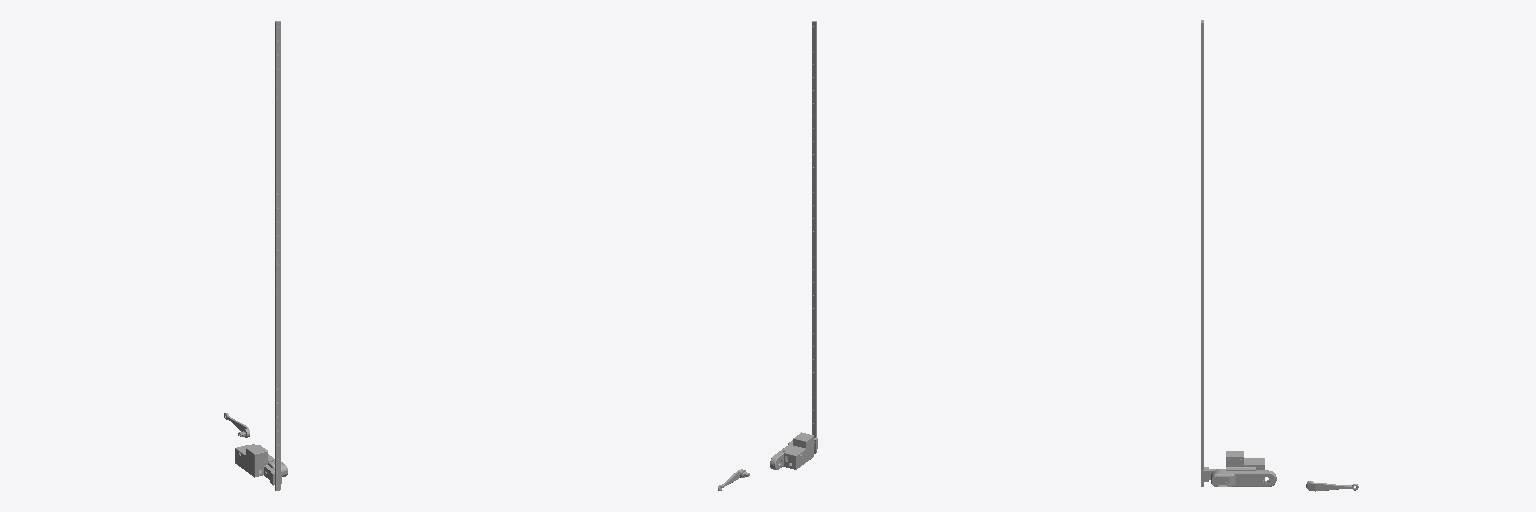
The robot description file, URDF, robot "softleg_cart":
<?xml version="1.0" ?>
<!-- =================================================================================== -->
<!-- |    This document was autogenerated by xacro from ../robot/softleg_cart.urdf.xacro | -->
<!-- |    EDITING THIS FILE BY HAND IS NOT RECOMMENDED                                 | -->
<!-- =================================================================================== -->
<robot name="softleg_cart">

  <!-- INERTIA MATRICES FOR LINKS (wrt frames in urdf inertial) -->
  <material name="SoftLeg/DarkGrey">
    <color rgba="0.3 0.3 0.3 1.0"/>
  </material>
  <material name="SoftLeg/LightGrey">
    <color rgba="0.8 0.8 0.8 1.0"/>
  </material>
  <material name="SoftLeg/Black">
    <color rgba="0 0 0 1.0"/>
  </material>
  <material name="SoftLeg/Silver">
    <color rgba="1.0 1.0 1.0 1.0"/>
  </material>
  <material name="SoftLeg/Grey">
    <color rgba="0.7 0.7 0.7 1.0"/>
  </material>
  <!-- WORLD -->
  <link name="world">
  </link>

  <!-- 0) Cart link - fixed to parent. -->
  <joint name="world_softleg_1_fixed_joint" type="fixed">
    <origin rpy="0 0 0" xyz="0 0 0"/>
    <parent link="world"/>
    <child link="softleg_1_cart_link"/>
  </joint>
  <link name="softleg_1_cart_link">
    <inertial>
      <origin xyz="0 0 0"/>
      <mass value="1e-05"/>
      <inertia ixx="1.0000000000000001e-11" ixy="0.0" ixz="0.0" iyy="1.0000000000000001e-11" iyz="0.0" izz="1.0000000000000001e-11"/>
    </inertial>
    <visual>
      <origin rpy="0 0 3.141592653589793" xyz="0 0 0"/>
      <geometry>
        <mesh filename="package://softleg_description/meshes/cart.dae" scale=" .001 .001 .001"/>
      </geometry>
      <material name="SoftLeg/Grey"/>
    </visual>
    <collision>
      <origin rpy="0 0 3.141592653589793" xyz="0 0 0"/>
      <geometry>
        <mesh filename="package://softleg_description/meshes/cart.dae" scale=" .001 .001 .001"/>
      </geometry>
    </collision>
  </link>
  <!-- 1) Base link - moves along cart -->
  <joint name="softleg_1_cart_joint" type="prismatic">
    <origin rpy="1.5707963267948966 0.0 1.5707963267948966" xyz="0 -0.01 0"/>
    <axis xyz="0 1 0"/>
    <limit effort="100" lower="-2" upper="5" velocity="100"/>
    <dynamics damping="0.0001" friction="0.0001"/>
    <parent link="softleg_1_cart_link"/>
    <child link="softleg_1_base_link"/>
  </joint>
  <link name="softleg_1_base_link">
    <inertial>
      <mass value="0.97245523"/>
      <origin rpy="0 0 0" xyz="0.0356 -0.0011 -0.0078"/>
      <inertia ixx="0.0016984399" ixy="-0.00098390475" ixz="-0.0013053791" iyy="0.020148637999999996" iyz="0.00015383174" izz="0.019764512999999997"/>
    </inertial>
    <visual>
      <origin rpy="0 0 0" xyz="0 0 0"/>
      <geometry>
        <mesh filename="package://softleg_description/meshes/base.dae" scale=" .001 .001 .001"/>
      </geometry>
      <material name="SoftLeg/Grey"/>
    </visual>
    <collision>
    <origin xyz="-0.0004043 -0.256 0.04 " rpy="0. 0. -1.5707964"/>
      <geometry>
        <cylinder radius="0.035" length="0.025"/>
      </geometry>
      <!-- <origin xyz="0. 0. 0." rpy="0. 0. -1.5707964"/>
      <geometry>
        <mesh filename="package://softleg_description/meshes/softleg_1_base_link_visuals_mesh_0.obj" scale="0.001 0.001 0.001"/>
      </geometry> -->
    </collision>
  </link>
  <!-- 2) Thigh link - rotates w.r.t base -->
  <joint name="softleg_1_hip_joint" type="revolute">
    <origin rpy="1.5707963267948966 0 0" xyz="0.255 0 0.07"/>
    <axis xyz="0 1 0"/>
    <limit effort="100" lower="-3.141592653589793" upper="3.141592653589793" velocity="100"/>
    <dynamics damping="0.0001" friction="0.0001"/>
    <parent link="softleg_1_base_link"/>
    <child link="softleg_1_thigh_link"/>
  </joint>
  <link name="softleg_1_thigh_link">
    <inertial>
      <mass value="0.43578906"/>
      <origin rpy="0 0 0" xyz="0.0356 -0.0011 -0.0078"/>
      <inertia ixx="0.00075026891" ixy="-0.0010576539999999999" ixz="7.1507533e-08" iyy="0.0045759812" iyz="3.2201256999999996e-07" izz="0.0051059889"/>
    </inertial>
    <visual>
      <origin rpy="0 0 0" xyz="0.073 0 0"/>
      <geometry>
        <mesh filename="package://softleg_description/meshes/thigh.dae" scale=" .001 .001 .001"/>
      </geometry>
      <material name="SoftLeg/Grey"/>
    </visual>
    <collision>
    <origin xyz="0.0125 -0.1840615 0. " rpy="1.5707964 0. -1.5707964"/>
      <geometry>
        <cylinder radius="0.03" length="0.027"/>
      </geometry>
      <!-- <origin xyz="0. -0.073 0. " rpy="0. 0. -1.5707964"/>
      <geometry>
        <mesh filename="package://softleg_description/meshes/softleg_1_thigh_link_visuals_mesh_0.obj" scale="0.001 0.001 0.001"/>
      </geometry> -->
    </collision>
  </link>
  <!-- 3) Calf link - rotates w.r.t thigh -->
  <joint name="softleg_1_knee_joint" type="revolute">
    <origin rpy="1.5707963267948966 0 0" xyz="0.175 0.0275 0"/>
    <axis xyz="0 0 -1"/>
    <limit effort="100" lower="-3.141592653589793" upper="3.141592653589793" velocity="100"/>
    <dynamics damping="0.0001" friction="0.0001"/>
    <parent link="softleg_1_thigh_link"/>
    <child link="softleg_1_calf_link"/>
  </joint>
  <link name="softleg_1_calf_link">
    <inertial>
      <mass value="0.076217499"/>
      <origin rpy="0 0 0" xyz="0.0356 -0.0011 -0.0078"/>
      <inertia ixx="6.0006428999999995e-05" ixy="-0.011984835" ixz="3.6890095e-10" iyy="0.00047243319" iyz="1.2686112999999998e-10" izz="0.0005204986699999999"/>
    </inertial>
    <visual>
      <origin rpy="0 0 0" xyz="0 0 0"/>
      <geometry>
        <mesh filename="package://softleg_description/meshes/calf.dae" scale=" .001 .001 .001"/>
      </geometry>
      <material name="SoftLeg/Grey"/>
    </visual>
      <collision>
    <origin xyz="0.018 0. 0.175" rpy="0. -1.5707963 0. "/>
      <geometry>
        <sphere radius="0.015"/>
      </geometry>
    <!-- <collision>
    <origin xyz="0.018 0. 0.175" rpy="0. -1.5707963 0. "/>
      <geometry>
        <cylinder radius="0.015" length="0.01"/>
      </geometry> -->
      <!-- <origin xyz="-0. 0. -0." rpy="0. -1.5707963 0. "/>
      <geometry>
        <mesh filename="package://softleg_description/meshes/softleg_1_calf_link_visuals_mesh_0.obj" scale="0.001 0.001 0.001"/>
      </geometry> -->
    </collision>
  </link>
  <!-- 4) Contact link - Fixed -->
  <joint name="softleg_1_contact_joint" type="fixed">
    <origin rpy="1.5707963267948966 0 0" xyz="0.185 0 -0.02"/>
    <parent link="softleg_1_calf_link"/>
    <child link="softleg_1_contact_link"/>
  </joint>
  <link name="softleg_1_contact_link">
    <inertial>
      <origin xyz="0 0 0"/>
      <mass value="1e-05"/>
      <inertia ixx="1.0000000000000001e-11" ixy="0.0" ixz="0.0" iyy="1.0000000000000001e-11" iyz="0.0" izz="1.0000000000000001e-11"/>
    </inertial>
  </link>

  <!-- <gazebo> -->
  <gazebo reference="base_link">
            <material>Gazebo/White</material>
  </gazebo>

 
  <gazebo>
    <plugin filename="libgazebo_ros2_control.so" name="gazebo_ros2_control">
      <parameters>[local-path]/softleg_ws_2/src/softleg_gazebo/config/softleg_gazebo_sim_jnt_PD.yaml</parameters>
    </plugin>
  </gazebo>
  <ros2_control name="GazeboSystem" type="system">
    <hardware>
        <plugin>gazebo_ros2_control/GazeboSystem</plugin>
    </hardware>
    
    <joint name="softleg_1_cart_joint">
              <command_interface name="effort" />
              <state_interface name="position">
                  <param name="initial_value">0.0</param>
              </state_interface>
              <state_interface name="velocity">
                  <param name="initial_value">0.0</param>
              </state_interface>
              <state_interface name="effort" />
    </joint>    
    
    <joint name="softleg_1_hip_joint">
            <command_interface name="effort" />
            <state_interface name="position">
                <param name="initial_value">0</param>
            </state_interface>
            <state_interface name="velocity">
                <param name="initial_value">0.0</param>
            </state_interface>
            <state_interface name="effort" />
    </joint>
    
    <joint name="softleg_1_knee_joint">
              <command_interface name="effort" />
              <state_interface name="position">
                  <param name="initial_value">0</param>
              </state_interface>
              <state_interface name="velocity">
                  <param name="initial_value">0.0</param>
              </state_interface>
              <state_interface name="effort" />
    </joint>
  </ros2_control>
  <!-- <gazebo reference="softleg_1_cart_link">
      <gravity>true</gravity>
      <material>Gazebo/Grey</material>
      <kp>1e15</kp>
      <kd>1e15</kd>
      <mu1>0.8</mu1>
      <mu2>0.8</mu2>
      <collision>
        <surface>
          <contact>
            <ode>
              <min_depth>0.01</min_depth>
              <max_vel>0.1</max_vel>
            </ode>
          </contact>
        </surface>
      </collision>
    </gazebo>
    <gazebo reference="softleg_1_base_link">
    <gravity>true</gravity>
    <material>Gazebo/Grey</material>
    <kp>1e15</kp>
    <kd>1e15</kd>
    <mu1>0.8</mu1>
    <mu2>0.8</mu2>
    <collision>
      <surface>
        <contact>
          <ode>
            <min_depth>0.01</min_depth>
            <max_vel>0.1</max_vel>
          </ode>
        </contact>
      </surface>
    </collision>
  </gazebo>
  <gazebo reference="softleg_1_thigh_link">
    <gravity>true</gravity>
    <material>Gazebo/Grey</material>
    <kp>1e15</kp>
    <kd>1e15</kd>
    <mu1>0.8</mu1>
    <mu2>0.8</mu2>
    <collision>
      <surface>
        <contact>
          <ode>
            <min_depth>0.01</min_depth>
            <max_vel>0.1</max_vel>
          </ode>
        </contact>
      </surface>
    </collision>
  </gazebo>
  <gazebo reference="softleg_1_calf_link">
    <gravity>true</gravity>
    <material>Gazebo/Grey</material>
    <kp>1e15</kp>
    <kd>1e15</kd>
    <mu1>0.8</mu1>
    <mu2>0.8</mu2>
    <collision>
      <surface>
        <contact>
          <ode>
            <min_depth>0.01</min_depth>
            <max_vel>0.1</max_vel>
          </ode>
        </contact>
      </surface>
    </collision>
  </gazebo>  -->
</robot>

--- Render facts (derived) ---
Views: 3 orthographic renders of the robot side by side, from view 1: azimuth 30°, elevation 25°; view 2: azimuth 150°, elevation 25°; view 3: azimuth 270°, elevation 25°.
Robot: softleg_cart — 6 links, 5 joints (2 revolute, 1 prismatic, 2 fixed); root link world; default pose: every joint at zero.
Visible links, largest first — view 1: softleg_1_cart_link, softleg_1_base_link; view 2: softleg_1_cart_link, softleg_1_base_link; view 3: softleg_1_base_link, softleg_1_cart_link.
Link boxes in pixels (box(x1,y1,x2,y2)): softleg_1_cart_link: box(275, 21, 280, 490); softleg_1_base_link: box(235, 444, 287, 485); softleg_1_cart_link: box(812, 21, 816, 453); softleg_1_base_link: box(770, 432, 817, 469); softleg_1_base_link: box(1203, 451, 1276, 486); softleg_1_cart_link: box(1201, 20, 1203, 486).
Size in the robot's own frame: 0.1734 by 0.6195 by 2.02 metres.
Meshes: 4 distinct files referenced, 3 mesh visuals loaded (3 Collada DAE); not drawn: 1 (reference not matched to a file when rendering).
